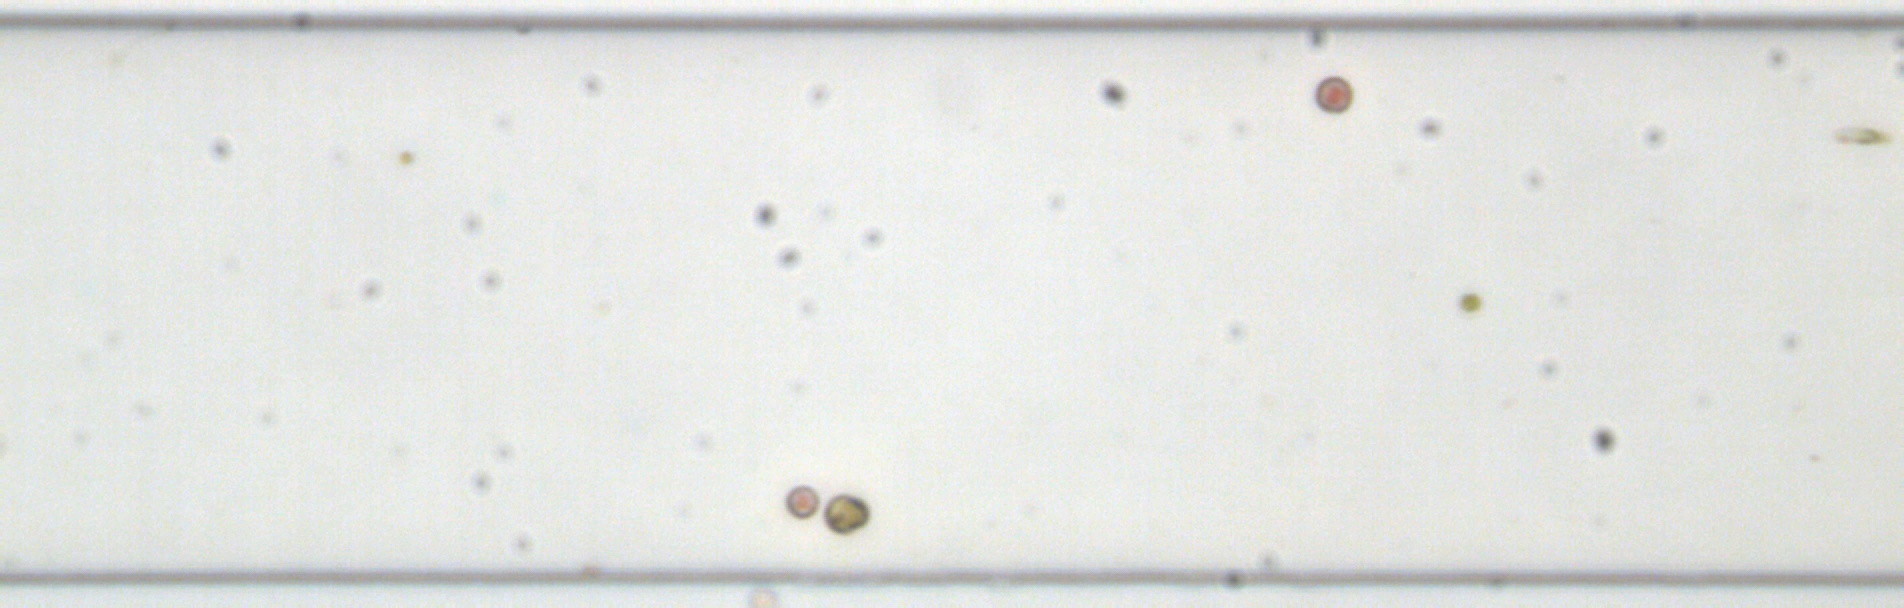Chlorella: (1456, 290, 1481, 314), (396, 147, 416, 164)
Dunaliella salina: (1826, 123, 1893, 149)
Effrenium: (820, 490, 873, 534)
Porphyridium: (1311, 72, 1353, 119), (780, 483, 824, 521)
